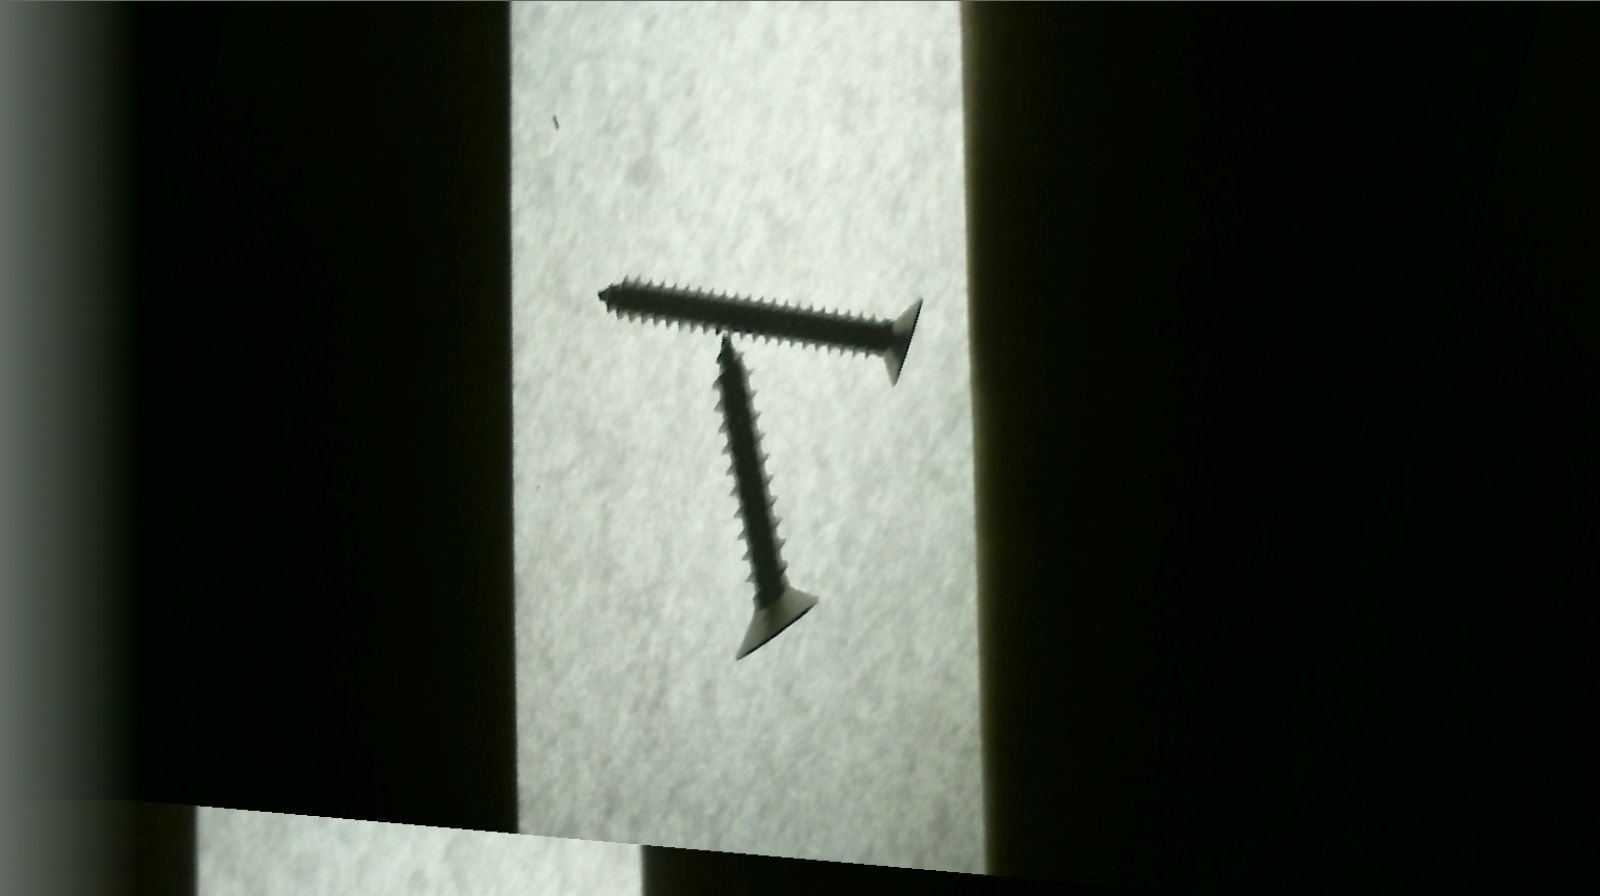S001: (625, 336, 895, 670)
S002: (573, 268, 938, 392)
